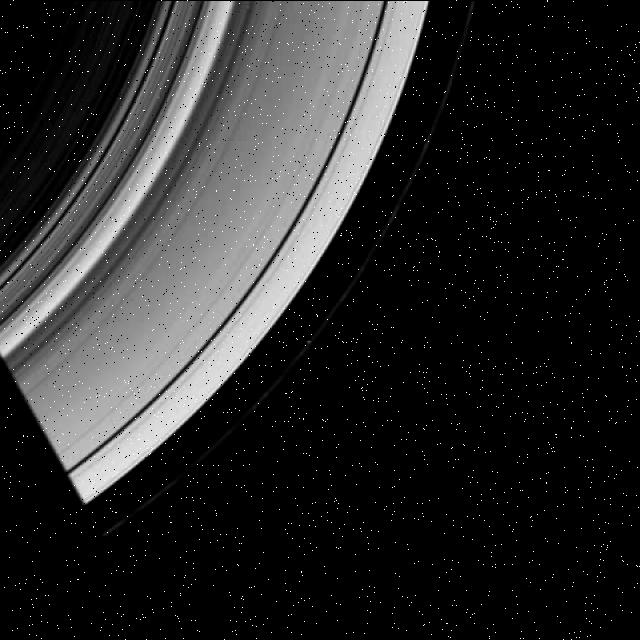Saturn: (0, 0, 482, 542)
